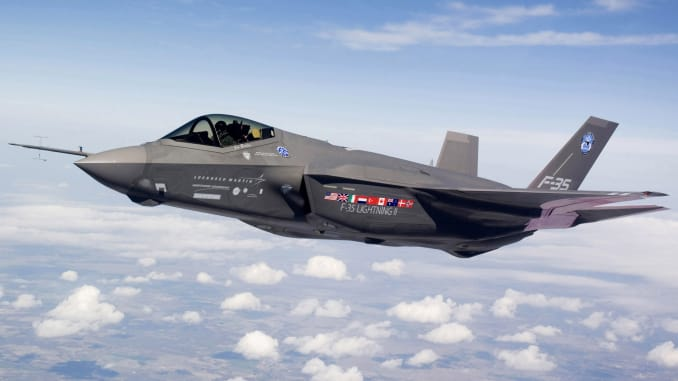F-35 Lightning: (37, 67, 678, 307)
